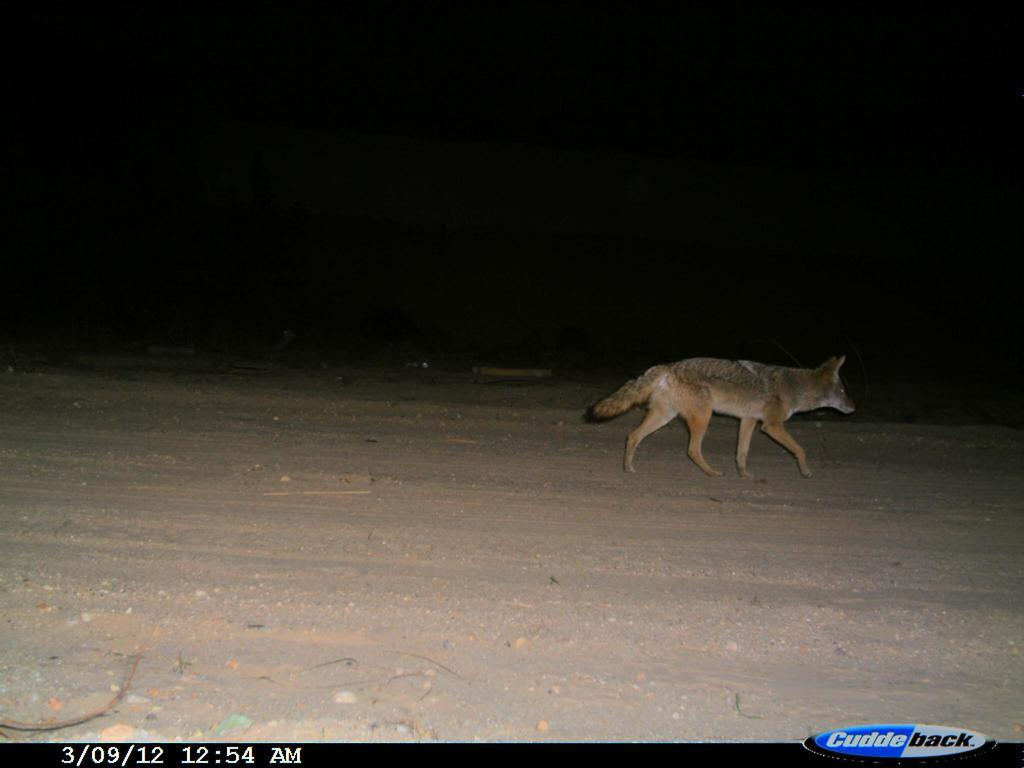coyote: (575, 297, 871, 513)
